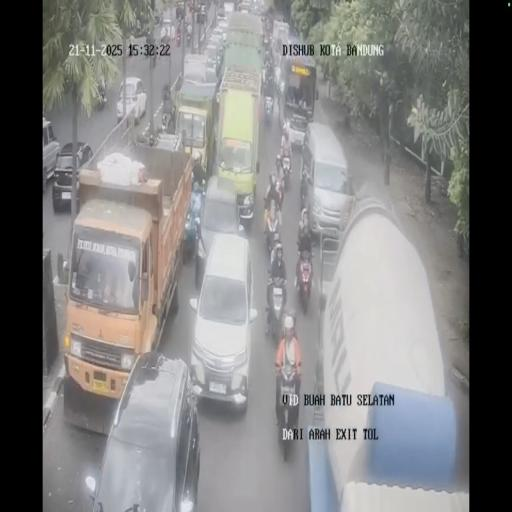car: (88, 350, 200, 508), (302, 123, 350, 242), (195, 174, 243, 282), (117, 78, 146, 125), (42, 117, 60, 192), (271, 19, 291, 65), (203, 41, 224, 81), (215, 16, 229, 42), (196, 2, 206, 23), (161, 17, 172, 36), (216, 3, 227, 19), (239, 0, 251, 13)
motorcycle: (276, 363, 302, 458), (182, 190, 200, 266), (266, 279, 286, 341), (295, 252, 314, 314), (264, 215, 281, 259), (279, 151, 292, 192), (299, 176, 309, 213), (263, 90, 273, 124), (262, 34, 272, 61), (186, 22, 192, 46), (176, 26, 182, 46)
truck: (173, 70, 218, 180), (280, 48, 318, 146), (220, 8, 264, 87), (176, 0, 186, 18)
